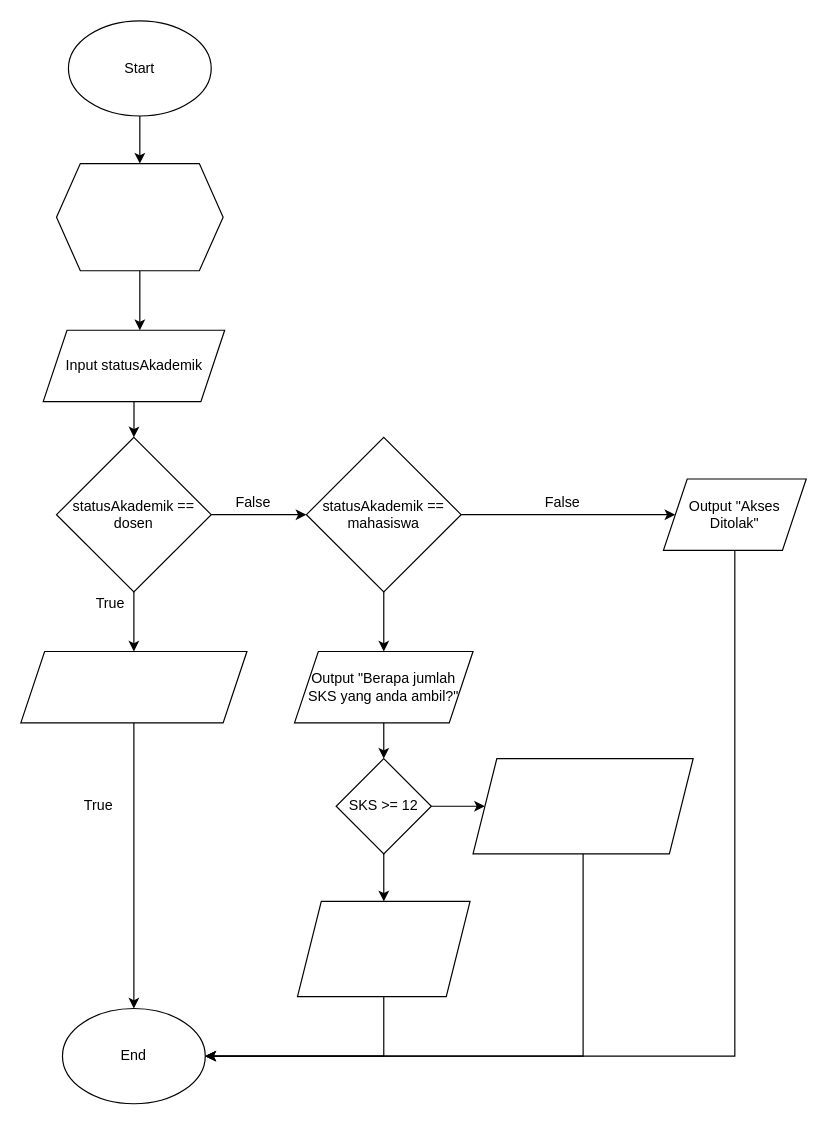
This 827x1125 diagram has some shape labels left out. The shapes that lost their labels are listed below. From the top down, each one's centre as x and y in pixels, then its label:
(139,216): String statusAkademik Int sks
(133,686): Output "Akses Wifi Diberikan (Dosen)"
(582,805): Output "Akses Ditolak, SKS kurang dari 12"
(383,948): Output "Akses Wifi Diberikan (mahasiswa aktif)
